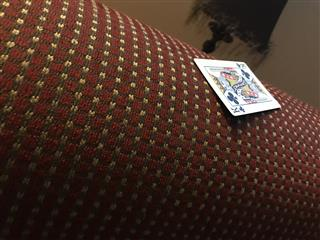KingOfClubs: (192, 57, 281, 116)
